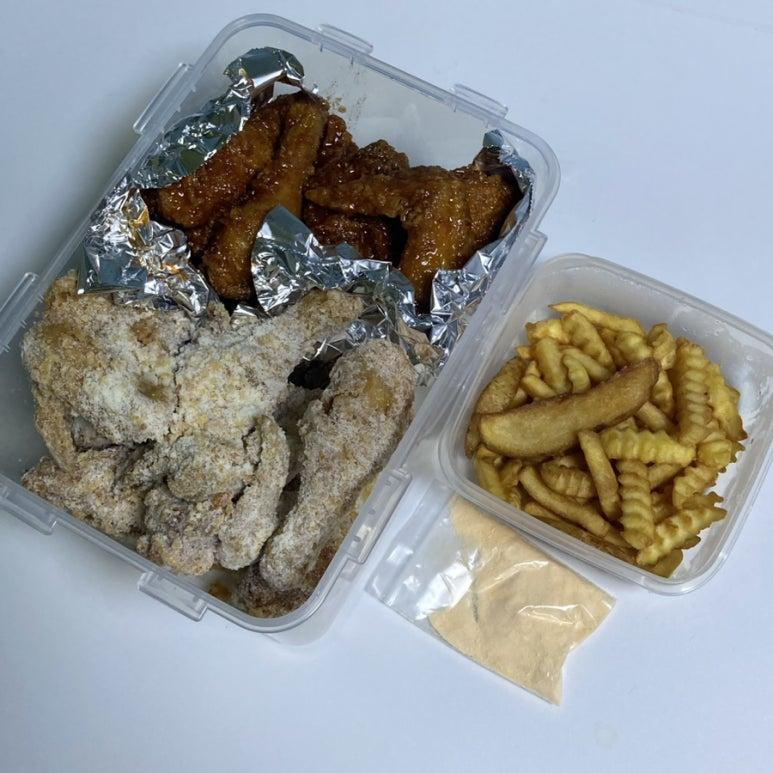Lunch Box: (0, 14, 559, 633), (439, 255, 772, 593)
